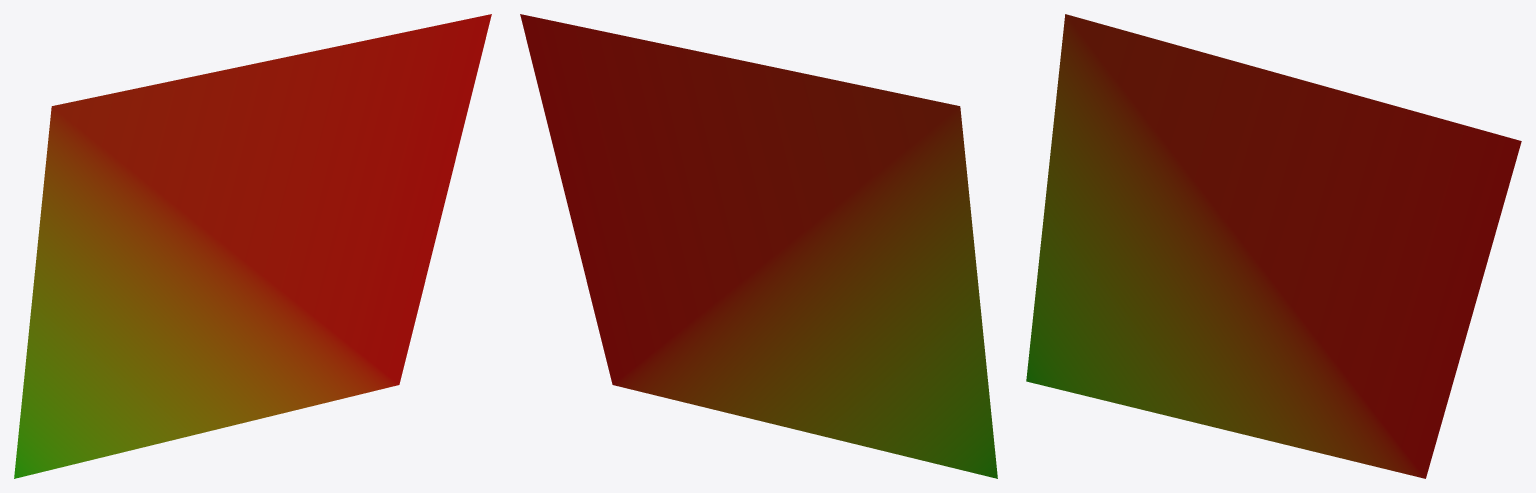
Rendered from Var5_LOD3.fbx.
3 renders of one model, left to right at view 1: azimuth 30°, elevation 25°; view 2: azimuth 150°, elevation 25°; view 3: azimuth 330°, elevation 25°, orthographic. The views are drawn at different scales.
Visible parts, largest first — view 1: _4bad_Var5_LOD3; view 2: _4bad_Var5_LOD3; view 3: _4bad_Var5_LOD3.
Boxes of the visible parts, x1,y1,x2,y2 form: _4bad_Var5_LOD3: [14, 14, 491, 478]; _4bad_Var5_LOD3: [520, 14, 997, 478]; _4bad_Var5_LOD3: [1026, 14, 1521, 478].
Bounding box in the file's own units: 111 × 80.68 × 1.19e-06.
